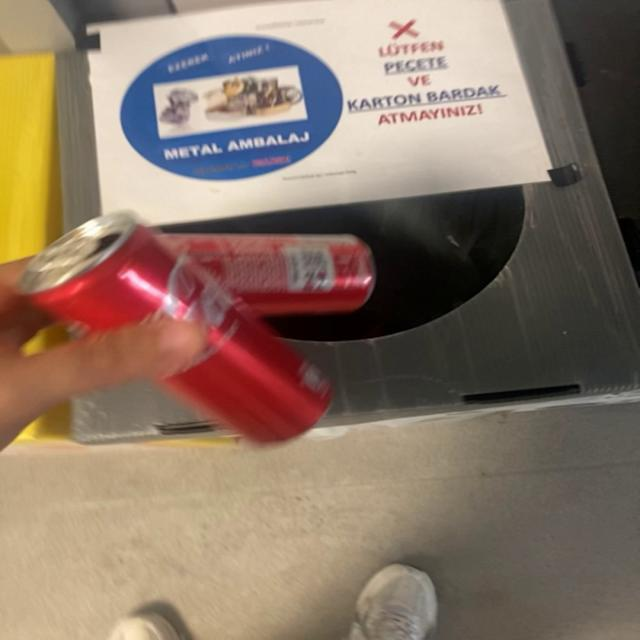Bin: (160, 0, 638, 425), (72, 385, 213, 444), (57, 51, 97, 224)
Metal: (18, 211, 373, 442)
